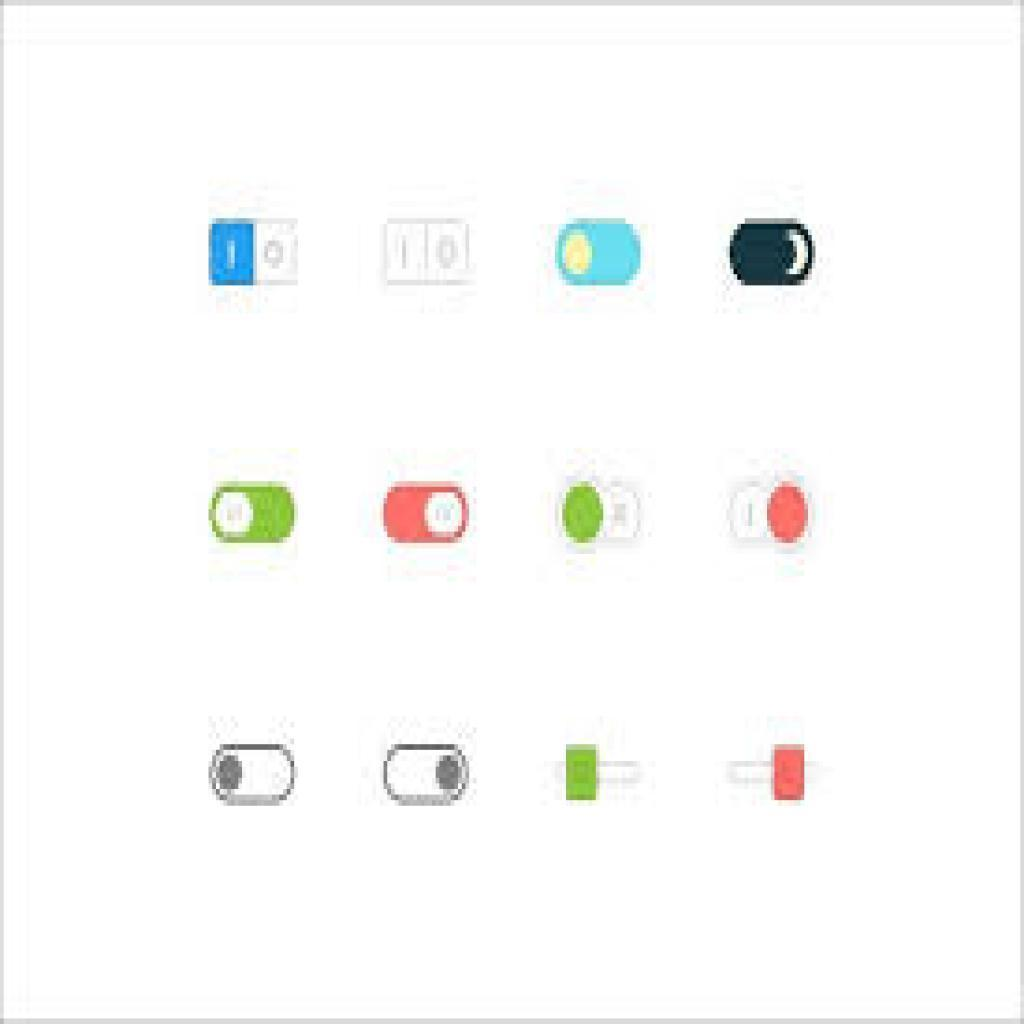switch: (729, 216, 818, 286), (381, 481, 473, 547), (726, 477, 814, 546), (557, 219, 642, 288), (207, 482, 296, 547), (560, 480, 641, 547), (383, 743, 469, 805), (211, 743, 298, 802)
